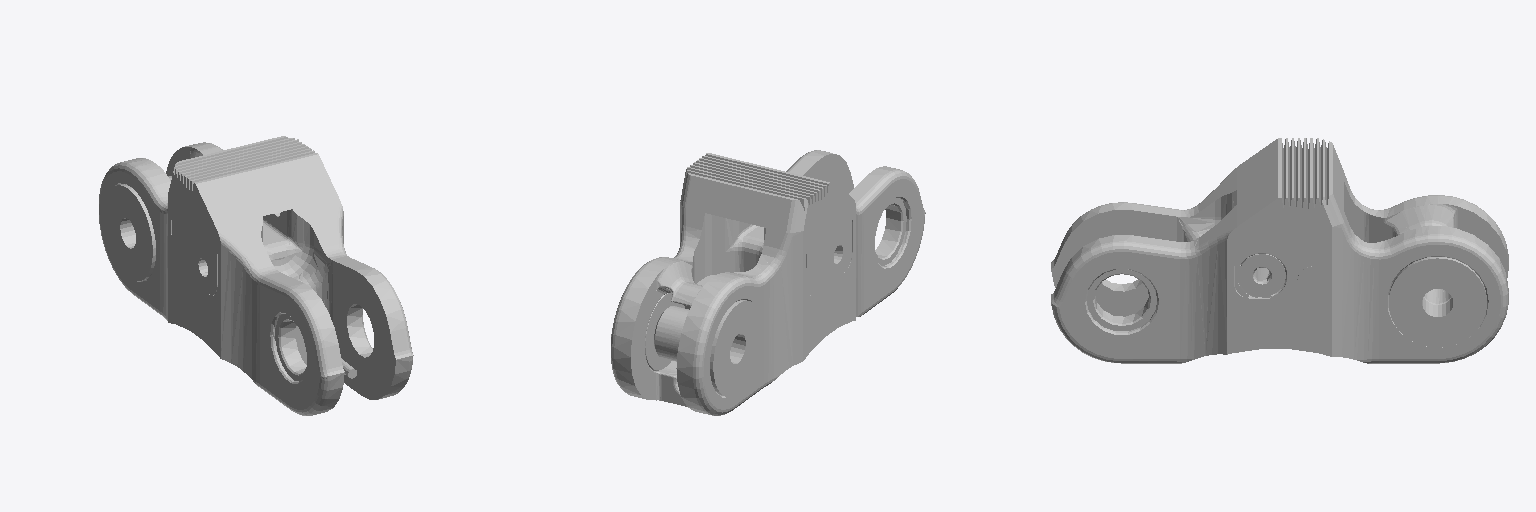
The model's file is lf_proximal.obj.
The picture shows the model from 3 angles: view 1: azimuth 30°, elevation 25°; view 2: azimuth 150°, elevation 25°; view 3: azimuth 270°, elevation 25°; orthographic projection.
Visible parts, largest first — view 1: little_proximal_base_SIH_right.089, little_proximal_backplate_SIH_right.083; view 2: little_proximal_base_SIH_right.089, little_proximal_backplate_SIH_right.083; view 3: little_proximal_base_SIH_right.089, little_proximal_backplate_SIH_right.083, little_proximal_spring_indication_SIH_right.084.
Part boxes in pixels (x1,y1,x2,y2): little_proximal_base_SIH_right.089: (99, 142, 413, 415); little_proximal_backplate_SIH_right.083: (168, 136, 338, 294); little_proximal_base_SIH_right.089: (611, 150, 925, 415); little_proximal_backplate_SIH_right.083: (680, 153, 852, 288); little_proximal_base_SIH_right.089: (1051, 168, 1508, 363); little_proximal_backplate_SIH_right.083: (1234, 138, 1343, 298); little_proximal_spring_indication_SIH_right.084: (1239, 254, 1285, 296).
Bounding box in the file's own units: 18 × 24.5 × 57.99.